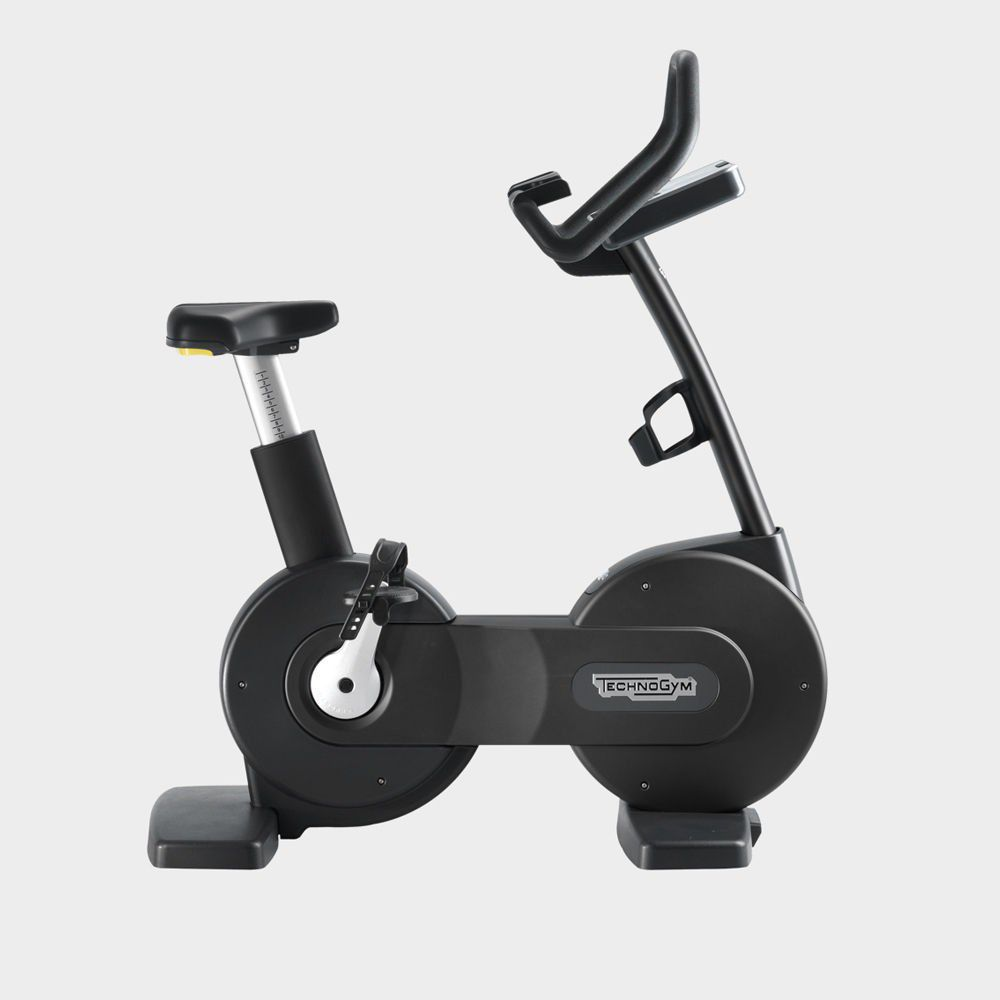gym_bike: (102, 39, 831, 899)
